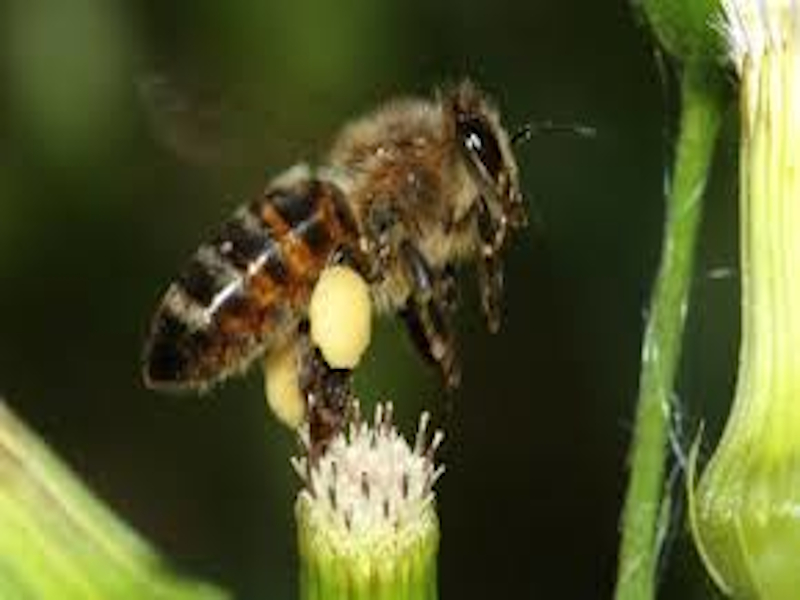abeja: (130, 54, 591, 477)
